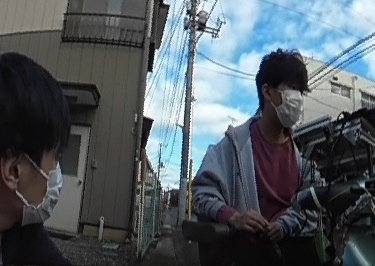person: (191, 45, 319, 252)
